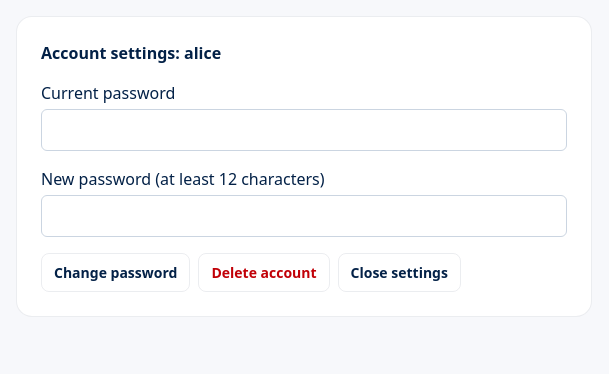
Scenario: handles password update status 403 without dropping the draft
Type "a-strong-password" into the password field labelled "Current password" at [304, 130], box [41, 109, 567, 151]
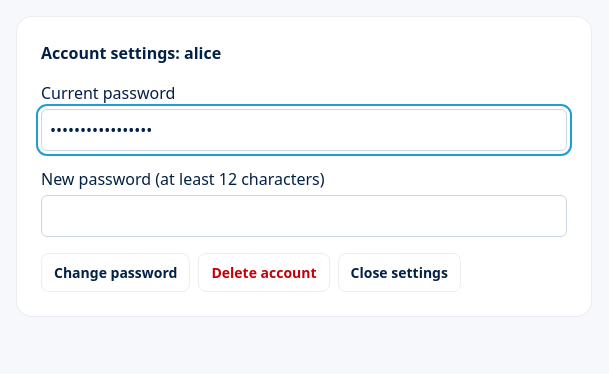
Type "replacement-password" into the password field labelled "New password (at least 12 characters)" at [304, 216], box [41, 195, 567, 237]
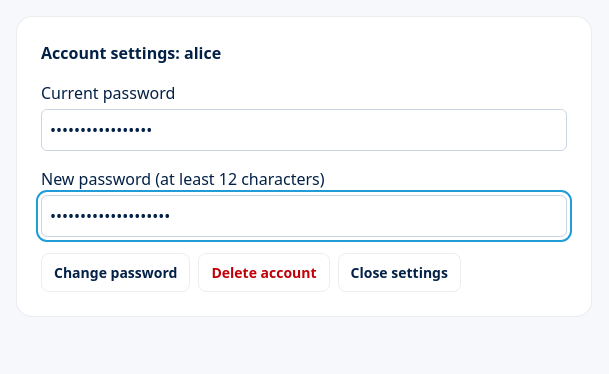
Click the button "Change password" at [116, 272], box [41, 253, 190, 292]
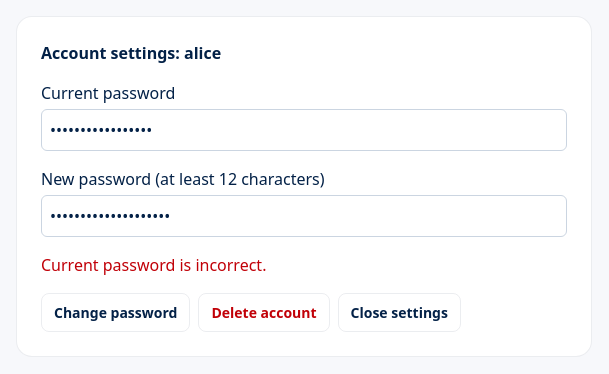
Expected: the message reads "Current password is incorrect.", [41, 254, 266, 276]
